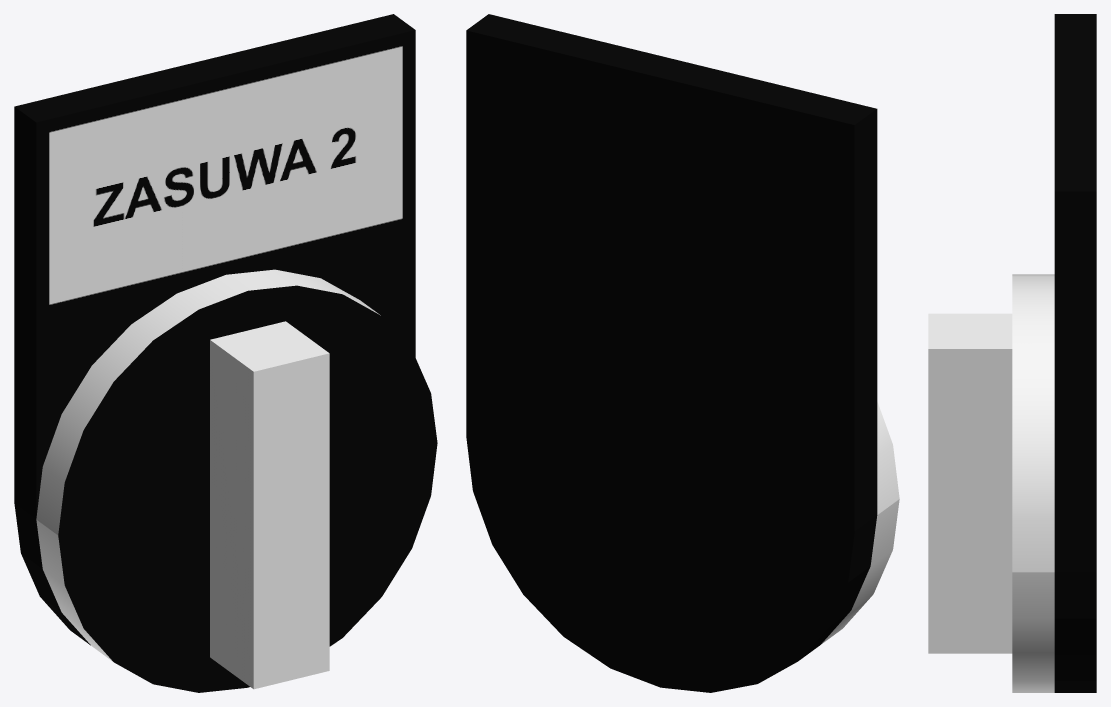
File: Switcher-zasuwa2.fbx
3 views of the same model, side by side, from view 1: azimuth 30°, elevation 25°; view 2: azimuth 150°, elevation 25°; view 3: azimuth 270°, elevation 25° (orthographic). The views are drawn at different scales.
Visible parts, largest first — view 1: Model; view 2: Model; view 3: Model.
Part boxes in pixels (x1=…): Model: x1=14, y1=14, x2=437, y2=692; Model: x1=466, y1=14, x2=899, y2=692; Model: x1=928, y1=14, x2=1096, y2=692.
Bounding box in the file's own units: 0.1 × 0.15 × 0.04.
